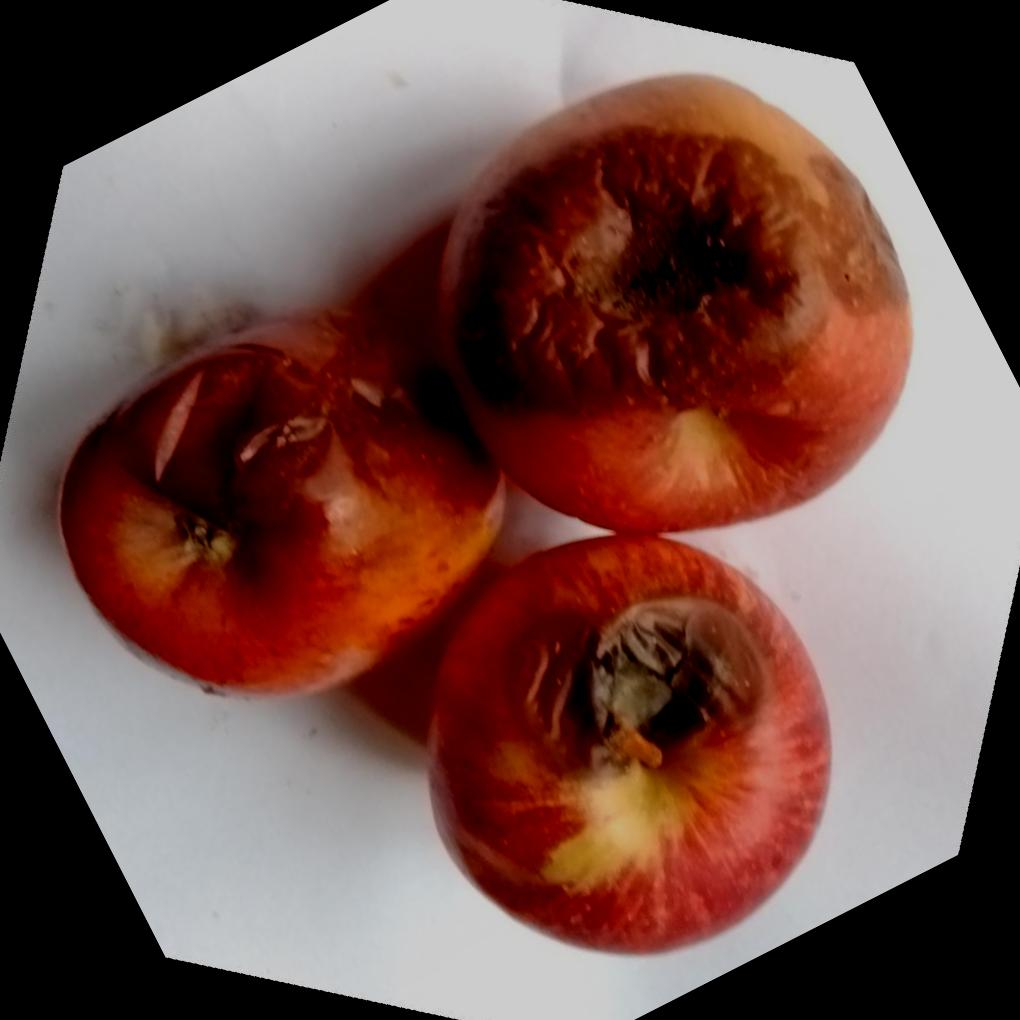FreshOrange: (70, 81, 912, 957)
